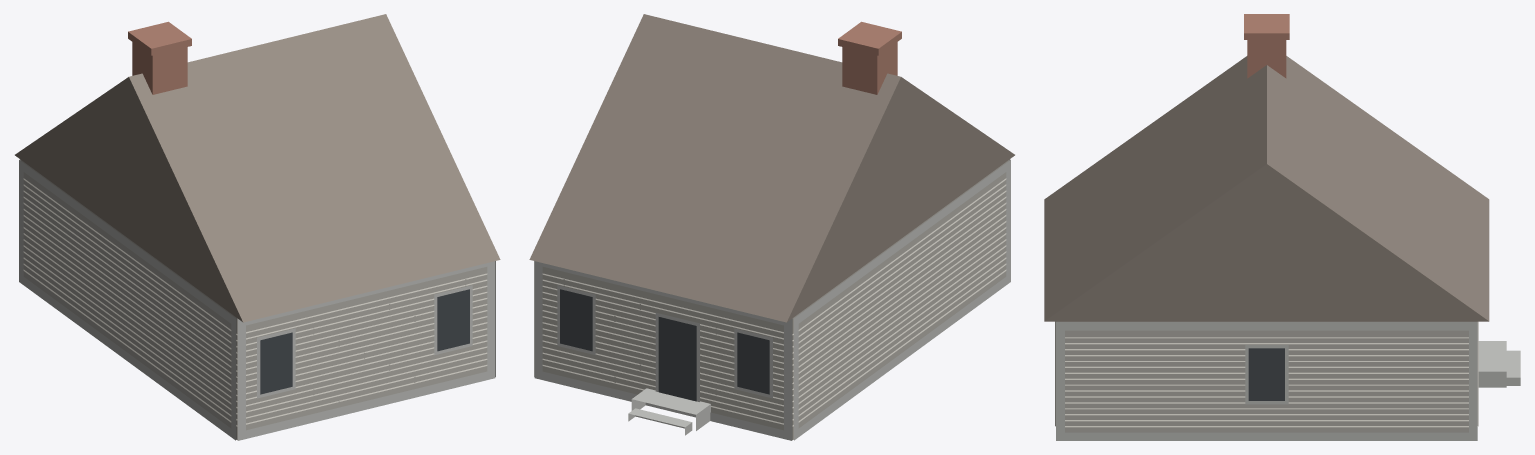
File: recon_1835_blk_lake_market_d5_01__inferred_1835.glb
The picture shows the model from 3 angles, left to right: view 1: azimuth 30°, elevation 25°; view 2: azimuth 150°, elevation 25°; view 3: azimuth 270°, elevation 25°; orthographic projection. The views are drawn at different scales.
Visible parts, largest first — view 1: recon_1835_blk_lake_market_d5_01__inferred_1835; view 2: recon_1835_blk_lake_market_d5_01__inferred_1835; view 3: recon_1835_blk_lake_market_d5_01__inferred_1835.
Boxes of the visible parts, x1,y1,x2,y2 form: recon_1835_blk_lake_market_d5_01__inferred_1835: (15,14,500,440); recon_1835_blk_lake_market_d5_01__inferred_1835: (529,14,1014,440); recon_1835_blk_lake_market_d5_01__inferred_1835: (1044,14,1520,440).
Bounding box in the file's own units: 6.28 × 7.32 × 10.22.
